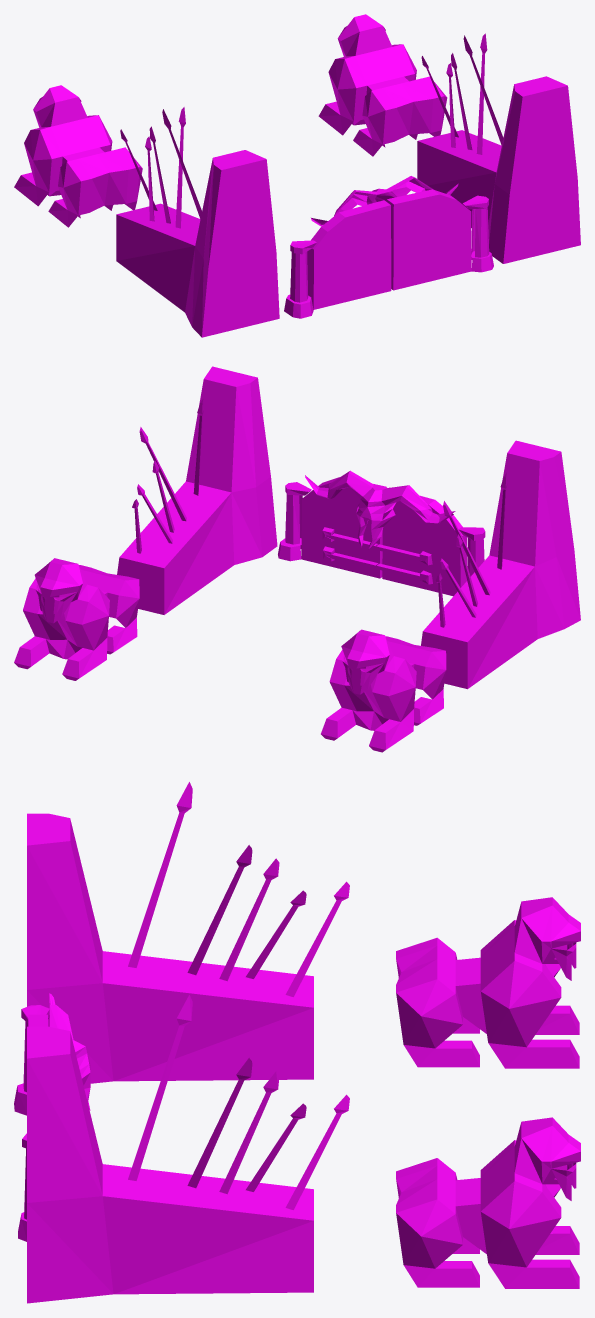
The model's file is cave templedoor.obj.
3 views of the same model, one above another, from view 1: azimuth 30°, elevation 25°; view 2: azimuth 150°, elevation 25°; view 3: azimuth 270°, elevation 25° (orthographic). The views are drawn at different scales.
Parts seen in each view (by area): view 1: cave templedoor_back; view 2: cave templedoor_back; view 3: cave templedoor_back.
Part boxes in pixels (x1,y1,x2,y2): cave templedoor_back: (14, 14, 580, 337); cave templedoor_back: (14, 366, 580, 752); cave templedoor_back: (14, 782, 580, 1303).
Bounding box in the file's own units: 9.48 × 4.36 × 8.37.
